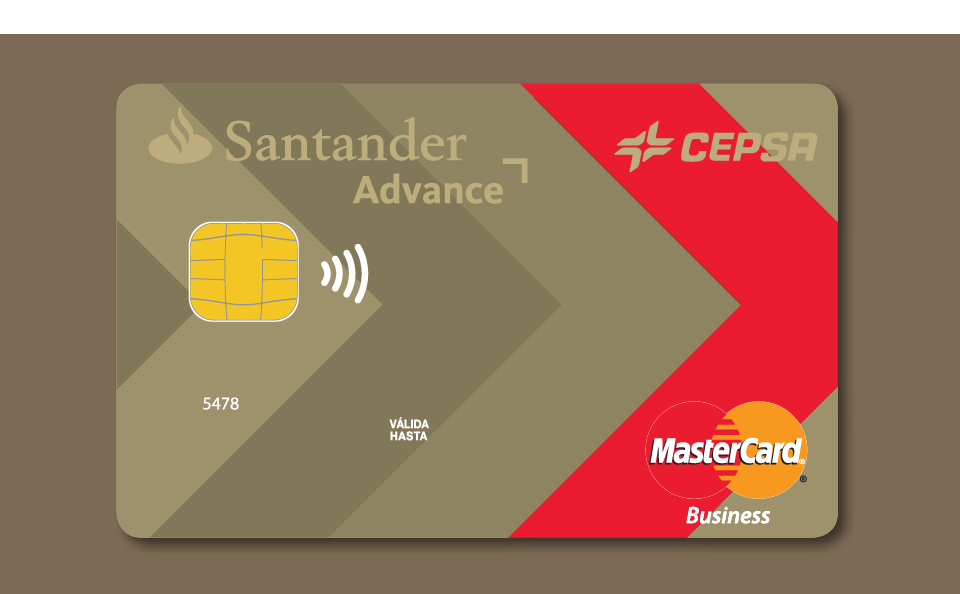tarjeta: (113, 82, 841, 538)
